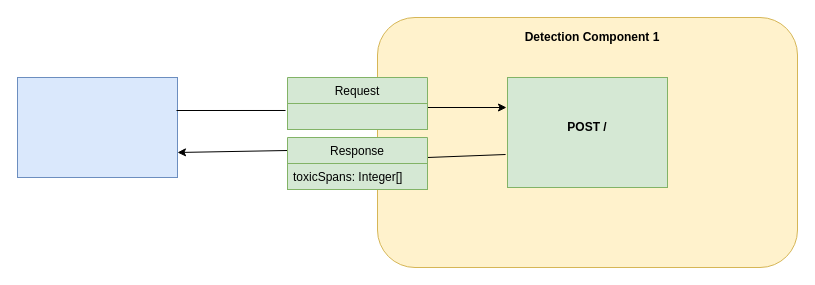
This 815x285 diagram has some shape labels left out. Each missing label, with the centre of its shape:
Aggregator: the point at 97,127
text: String: the point at 357,116
